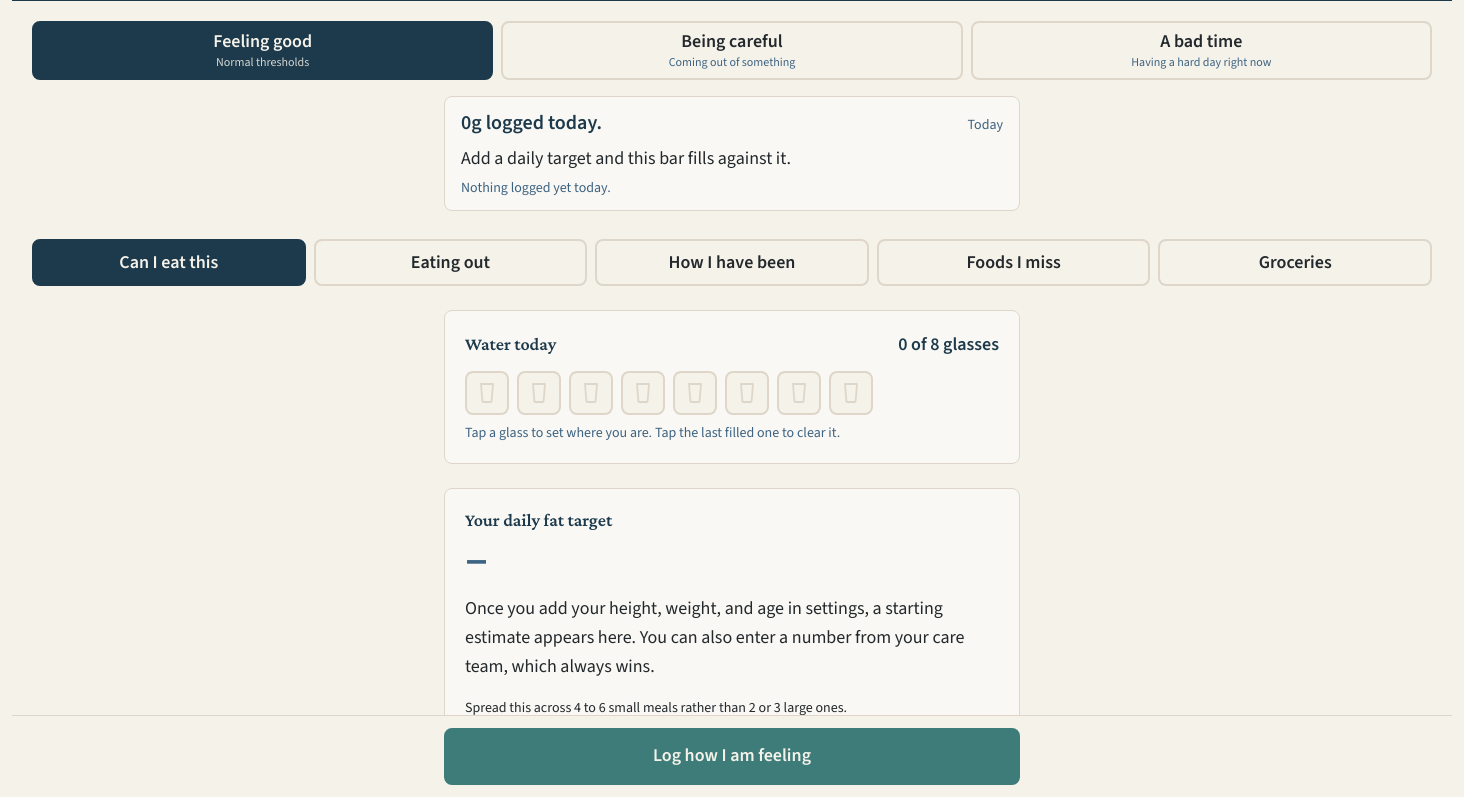
hydration row › states the count in words, not in filled icons alone
(page scrolled)
Check: the text "0 of 8 glasses" is shown, box [898,331,999,359]
Click the button named "Set today to 5 of 8" at (695, 393), box [673,371,717,415]
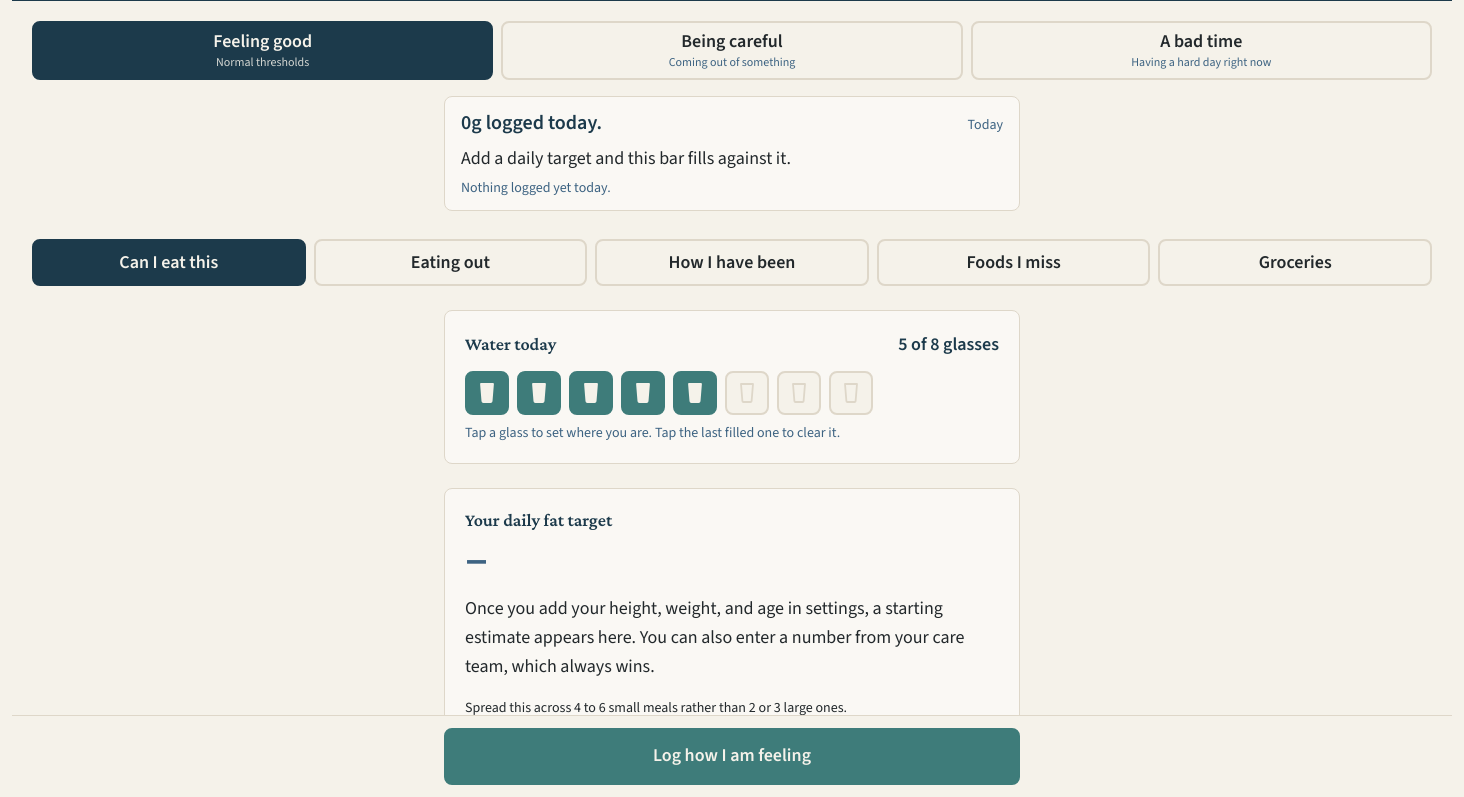
Check: the text "5 of 8 glasses" is shown, box [898,331,999,359]
